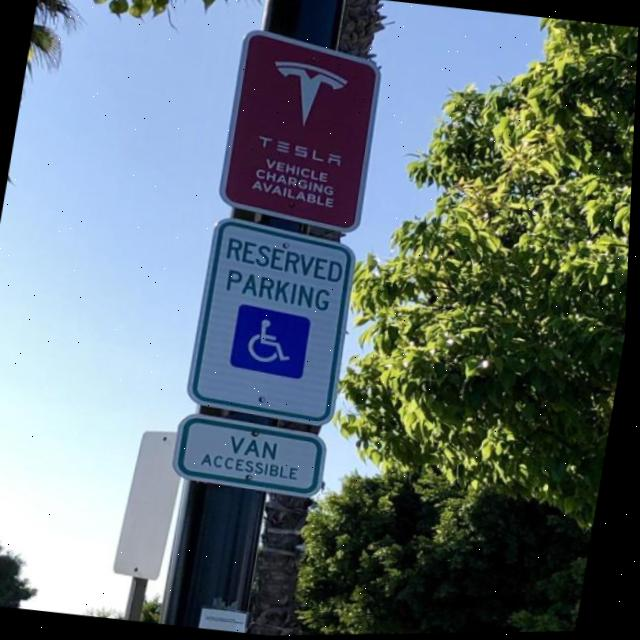symbol_of_access: (233, 309, 313, 377)
